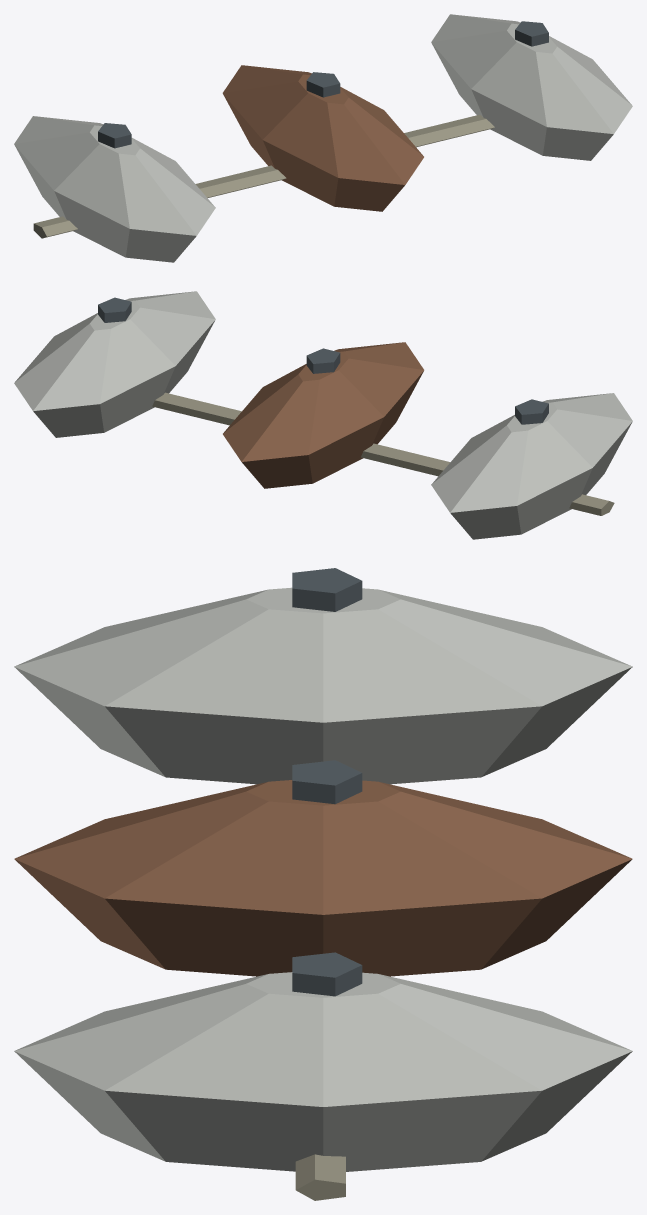
Rendered from buoy_line.glb.
3 views of the same model, one above another, from view 1: azimuth 30°, elevation 25°; view 2: azimuth 150°, elevation 25°; view 3: azimuth 270°, elevation 25° (orthographic). The views are drawn at different scales.
Parts seen in each view (by area): view 1: buoy_line; view 2: buoy_line; view 3: buoy_line.
Boxes of the visible parts, x1,y1,x2,y2 form: buoy_line: [14, 14, 632, 262]; buoy_line: [14, 291, 632, 539]; buoy_line: [14, 568, 632, 1200].
Size of the model in its own units: 2 by 0.3 by 1.
